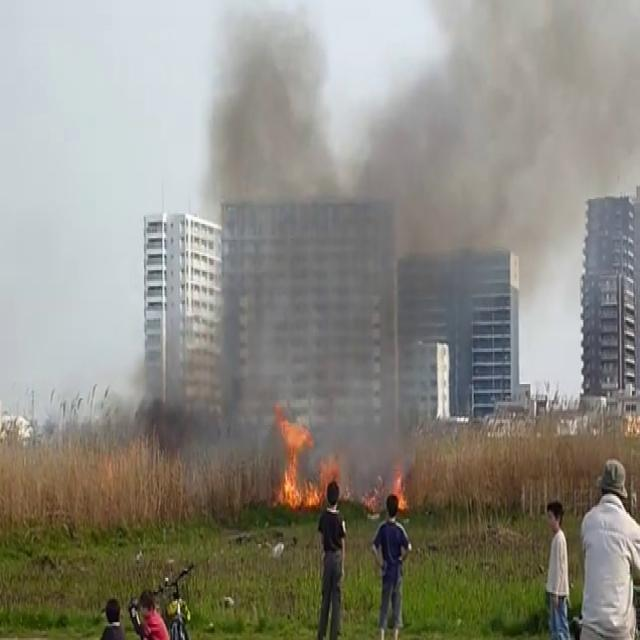Fire: (268, 396, 342, 516), (389, 462, 412, 516)
Smoke: (198, 0, 640, 473)
